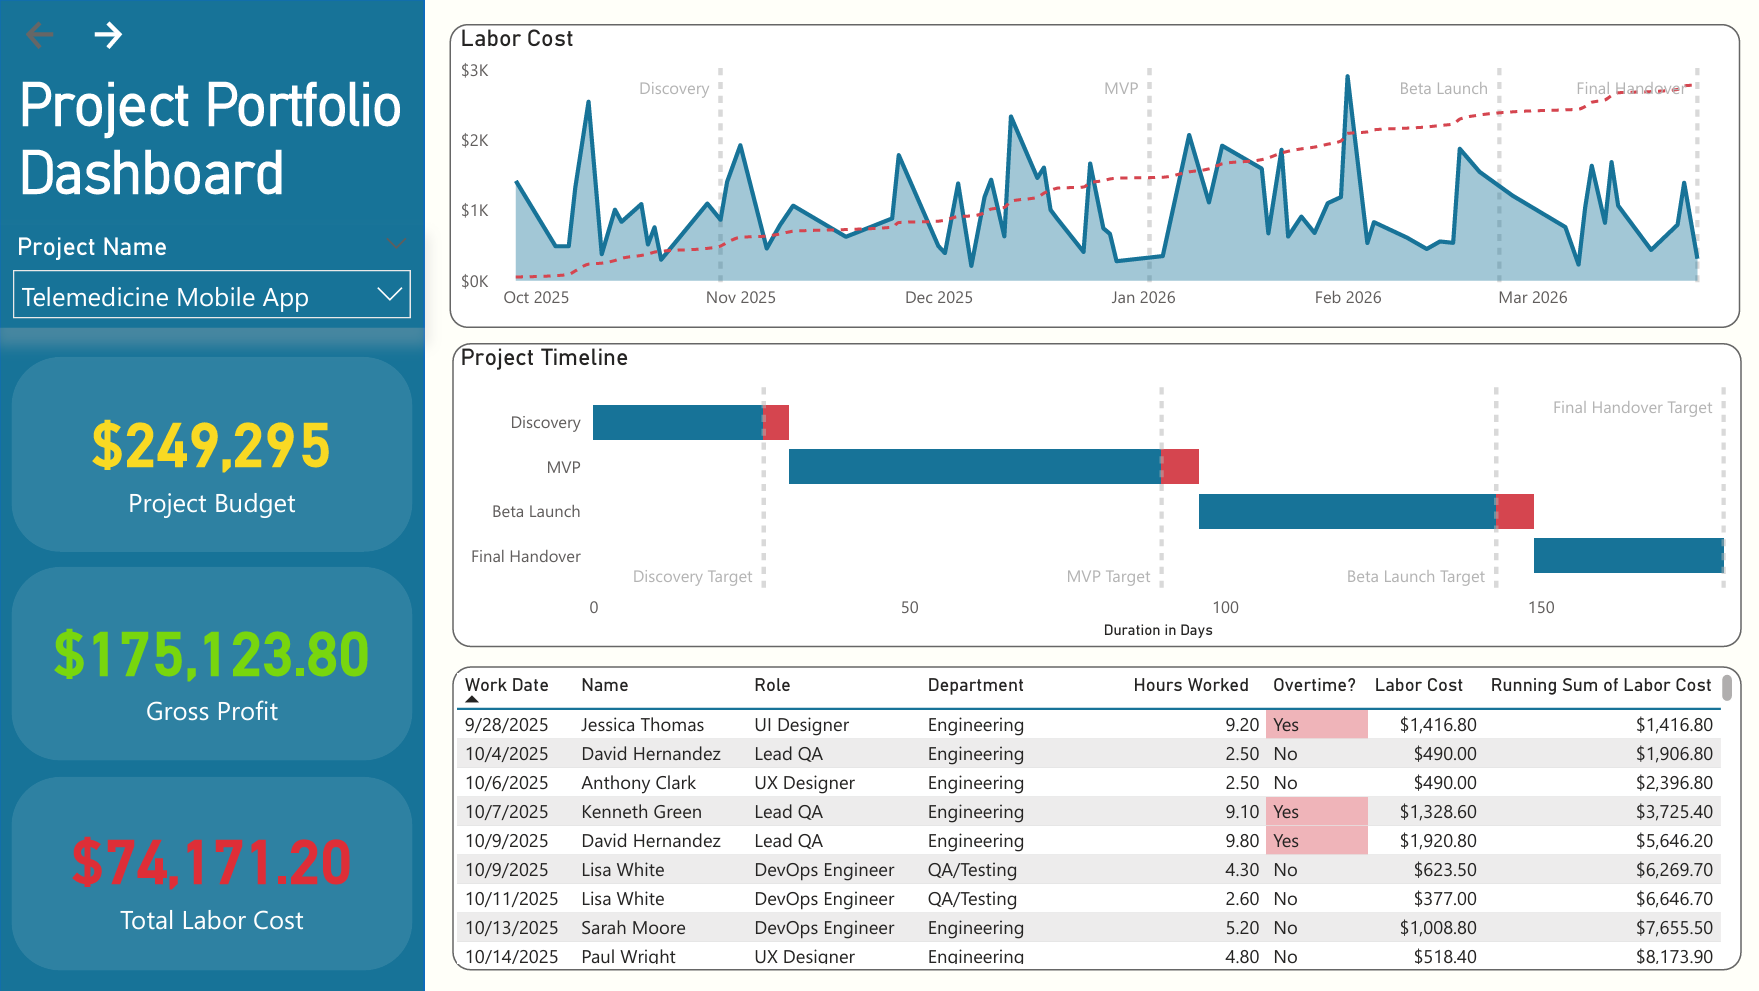

Layout of this report page (visuals, bound fields, positions):
{"tool":"powerbi","page":{"name":"PPM Dashboard","canvas":[1280,720],"ordinal":0},"visuals":[{"type":"shape","title":"Project Cost  - Line Chart with Running Est. Cost","box":[326.2,17.5,933.8,220],"z":0},{"type":"shape","box":[0,0,307.5,720],"z":1000},{"type":"shape","box":[8.8,411.2,290,140],"z":2000},{"type":"shape","title":"Gantt Chart - 4 phases (Discovery, MVP, Beta Launch, Final Handover) dynamic, serves ","box":[327.5,248.8,933.8,220],"z":3000},{"type":"shape","title":"Table: (Columns) Date, Employee Name, Role, Hours Worked, Labor Cost, Overtime?, Running Total Labor Cost","box":[327.5,482.5,933.8,220],"z":4000},{"type":"textbox","box":[8.8,46.2,298.8,116.2],"z":5000},{"type":"actionButton","box":[8.8,6.2,45,40],"z":6000},{"type":"actionButton","box":[53.8,6.2,71.2,40],"z":7000},{"type":"slicer","fields":{"Values":["vw_ProjectDetails_clean.ProjectName"]},"box":[0,162.5,307.5,75],"z":8000},{"type":"shape","box":[8.8,258.8,290,141.2],"z":9000},{"type":"card","fields":{"Values":["Sum(vw_ProjectDetails_clean.TotalProjectBudget)"]},"box":[8.8,267.5,290,125],"z":10000},{"type":"shape","box":[8.8,562.5,290,140],"z":11000},{"type":"card","fields":{"Values":["All Measures.Total Labor Cost"]},"box":[8.8,570,290,125],"z":12000},{"type":"card","fields":{"Values":["All Measures.Gross Profit"]},"box":[8.8,418.8,290,125],"z":13000},{"type":"lineChart","title":"Labor Cost","fields":{"Y":["Sum(vw_ProjectLaborCosts.LaborCost)"],"Category":["Dim_Calendar.Date.Variation.Date Hierarchy.Year","Dim_Calendar.Date.Variation.Date Hierarchy.Month","Dim_Calendar.Date.Variation.Date Hierarchy.Day"],"Y2":["select"]},"box":[328.8,17.5,931.2,216.2],"z":14000},{"type":"barChart","title":"Project Timeline","fields":{"Category":["vw_ProjectMilestones_clean.MilestoneName"],"Y":["All Measures.Gantt Offset","All Measures.On-time - Gantt Duration","All Measures.Delayed - Gantt Duration"]},"box":[328.8,248.8,933.8,218.8],"z":15000},{"type":"tableEx","fields":{"Values":["vw_ProjectLaborCosts.WorkDate","vw_EmployeeDetails.Name","vw_EmployeeDetails.Role","vw_EmployeeDetails.DeptName","vw_ProjectLaborCosts.HoursWorked","vw_ProjectLaborCosts.Overtime?","vw_ProjectLaborCosts.LaborCost","select"]},"box":[326.2,482.5,933.8,220],"z":16000}]}

Visuals, with their boxes in screenshot pixels (x1, y1, x2, y2), scaled from the page's 1280x720 canvas onto the 1759x991 screenshot:
"Project Cost  - Line Chart with Running Est. Cost" shape: 448:24:1732:327
shape: 0:0:423:990
shape: 12:566:411:759
"Gantt Chart - 4 phases (Discovery, MVP, Beta Launch, Final Handover) dynamic, serves " shape: 450:342:1733:645
"Table: (Columns) Date, Employee Name, Role, Hours Worked, Labor Cost, Overtime?, Running Total Labor Cost" shape: 450:664:1733:967
textbox: 12:64:423:224
actionButton: 12:9:74:64
actionButton: 74:9:172:64
slicer - vw_ProjectDetails_clean.ProjectName: 0:224:423:327
shape: 12:356:411:551
card - Sum(vw_ProjectDetails_clean.TotalProjectBudget): 12:368:411:540
shape: 12:774:411:967
card - All Measures.Total Labor Cost: 12:785:411:957
card - All Measures.Gross Profit: 12:576:411:748
"Labor Cost" lineChart: 452:24:1732:322
"Project Timeline" barChart: 452:342:1735:644
tableEx - vw_ProjectLaborCosts.WorkDate x vw_EmployeeDetails.Name: 448:664:1732:967
